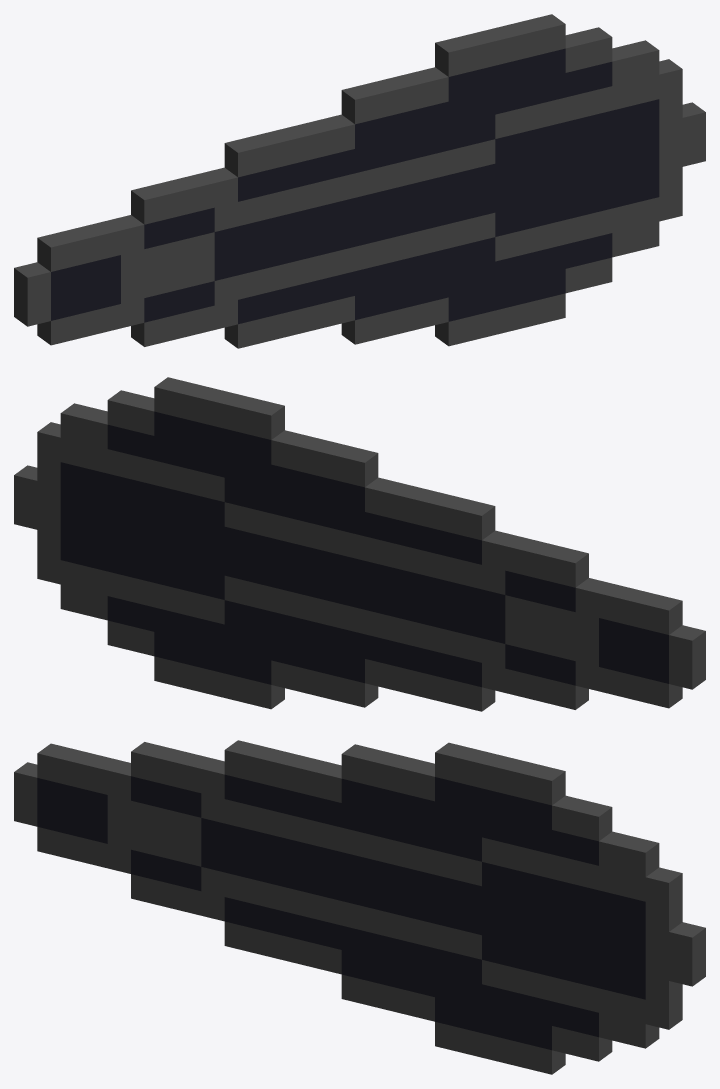
Rendered from OSA-0.obj.
The picture shows the model from 3 angles, top to bottom: view 1: azimuth 30°, elevation 25°; view 2: azimuth 150°, elevation 25°; view 3: azimuth 330°, elevation 25°; orthographic projection.
Size of the model in its own units: 2.9 by 1.2 by 0.1.
Materials: 1 (1 with a texture image).
